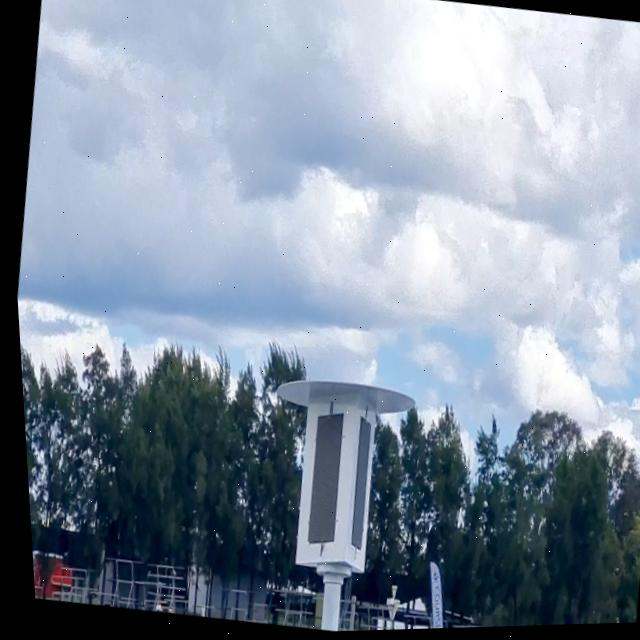led: (285, 405, 354, 559), (333, 405, 377, 566)
